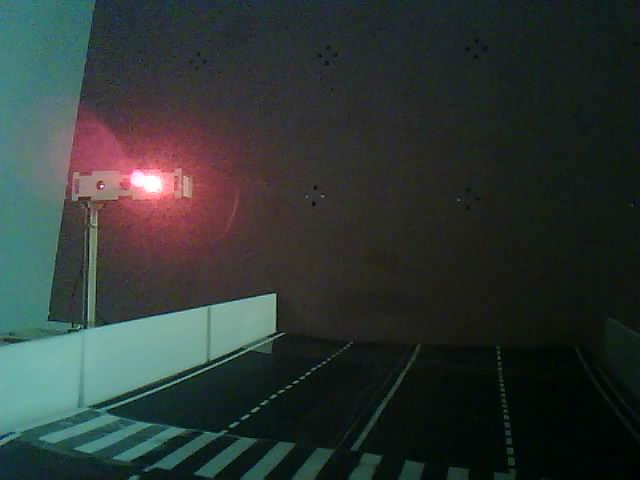crosswalk: (12, 397, 505, 480)
red: (60, 153, 236, 363)
